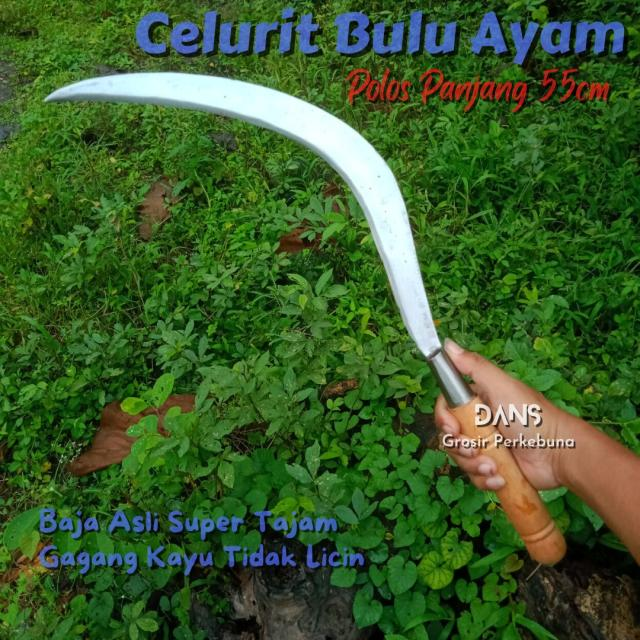Celurit: (44, 71, 568, 569)
